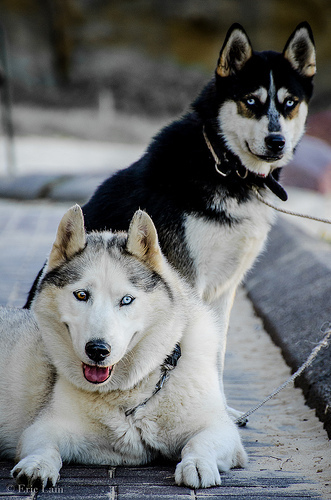dog: (13, 25, 318, 427), (0, 203, 253, 496)
